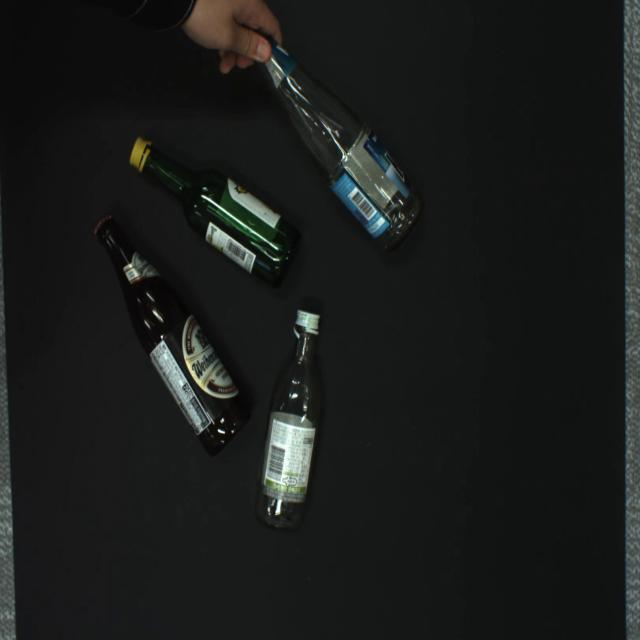beer-bottle: (253, 35, 424, 254), (95, 216, 250, 455)
soju-bottle: (130, 138, 299, 288), (257, 309, 322, 529)
